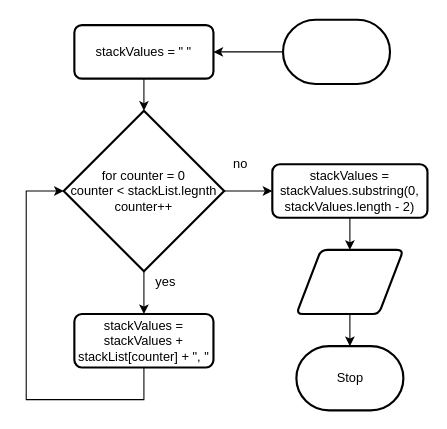
Image size: 447x429. Some labels were removed from this diagram. Each missing label, with the centre of its shape:
"return stackValues" belongs at point (349, 281).
"Start" belongs at point (336, 51).
